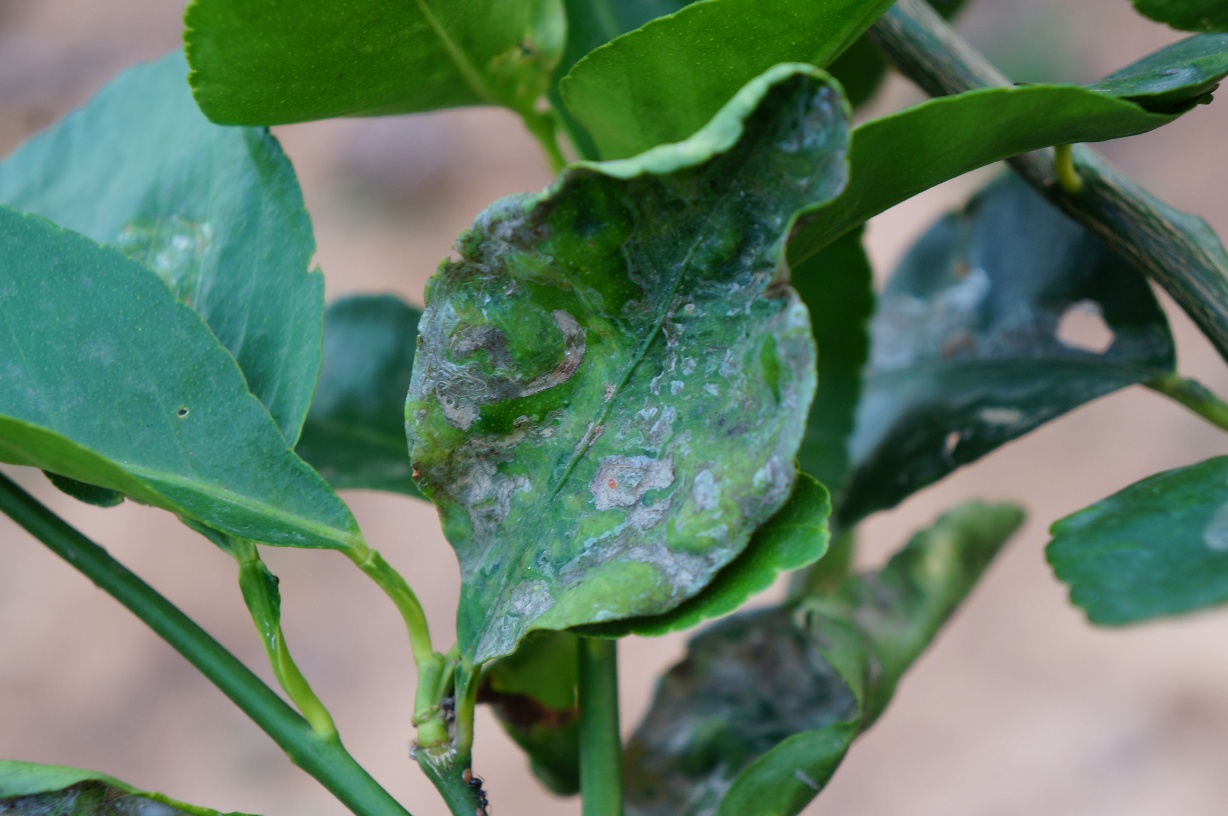damage: (395, 218, 690, 673)
